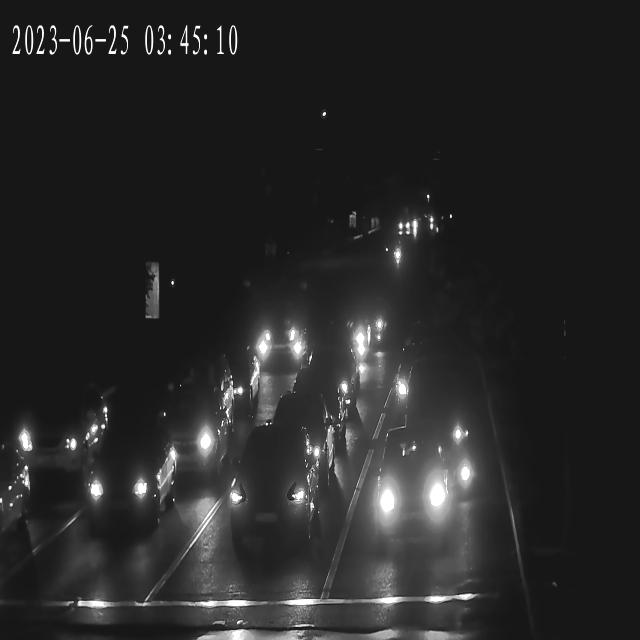Car: (222, 432, 319, 556), (2, 385, 110, 493), (78, 430, 178, 542), (405, 367, 477, 498), (137, 390, 230, 489), (368, 450, 458, 551), (263, 394, 331, 498), (296, 365, 351, 450), (199, 338, 261, 407), (312, 346, 364, 428), (0, 450, 34, 562), (252, 300, 311, 360), (337, 306, 378, 376), (382, 233, 406, 267), (398, 217, 420, 236)
